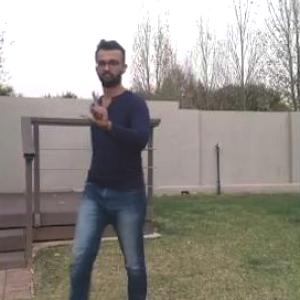land_hand: (75, 91, 112, 130)
